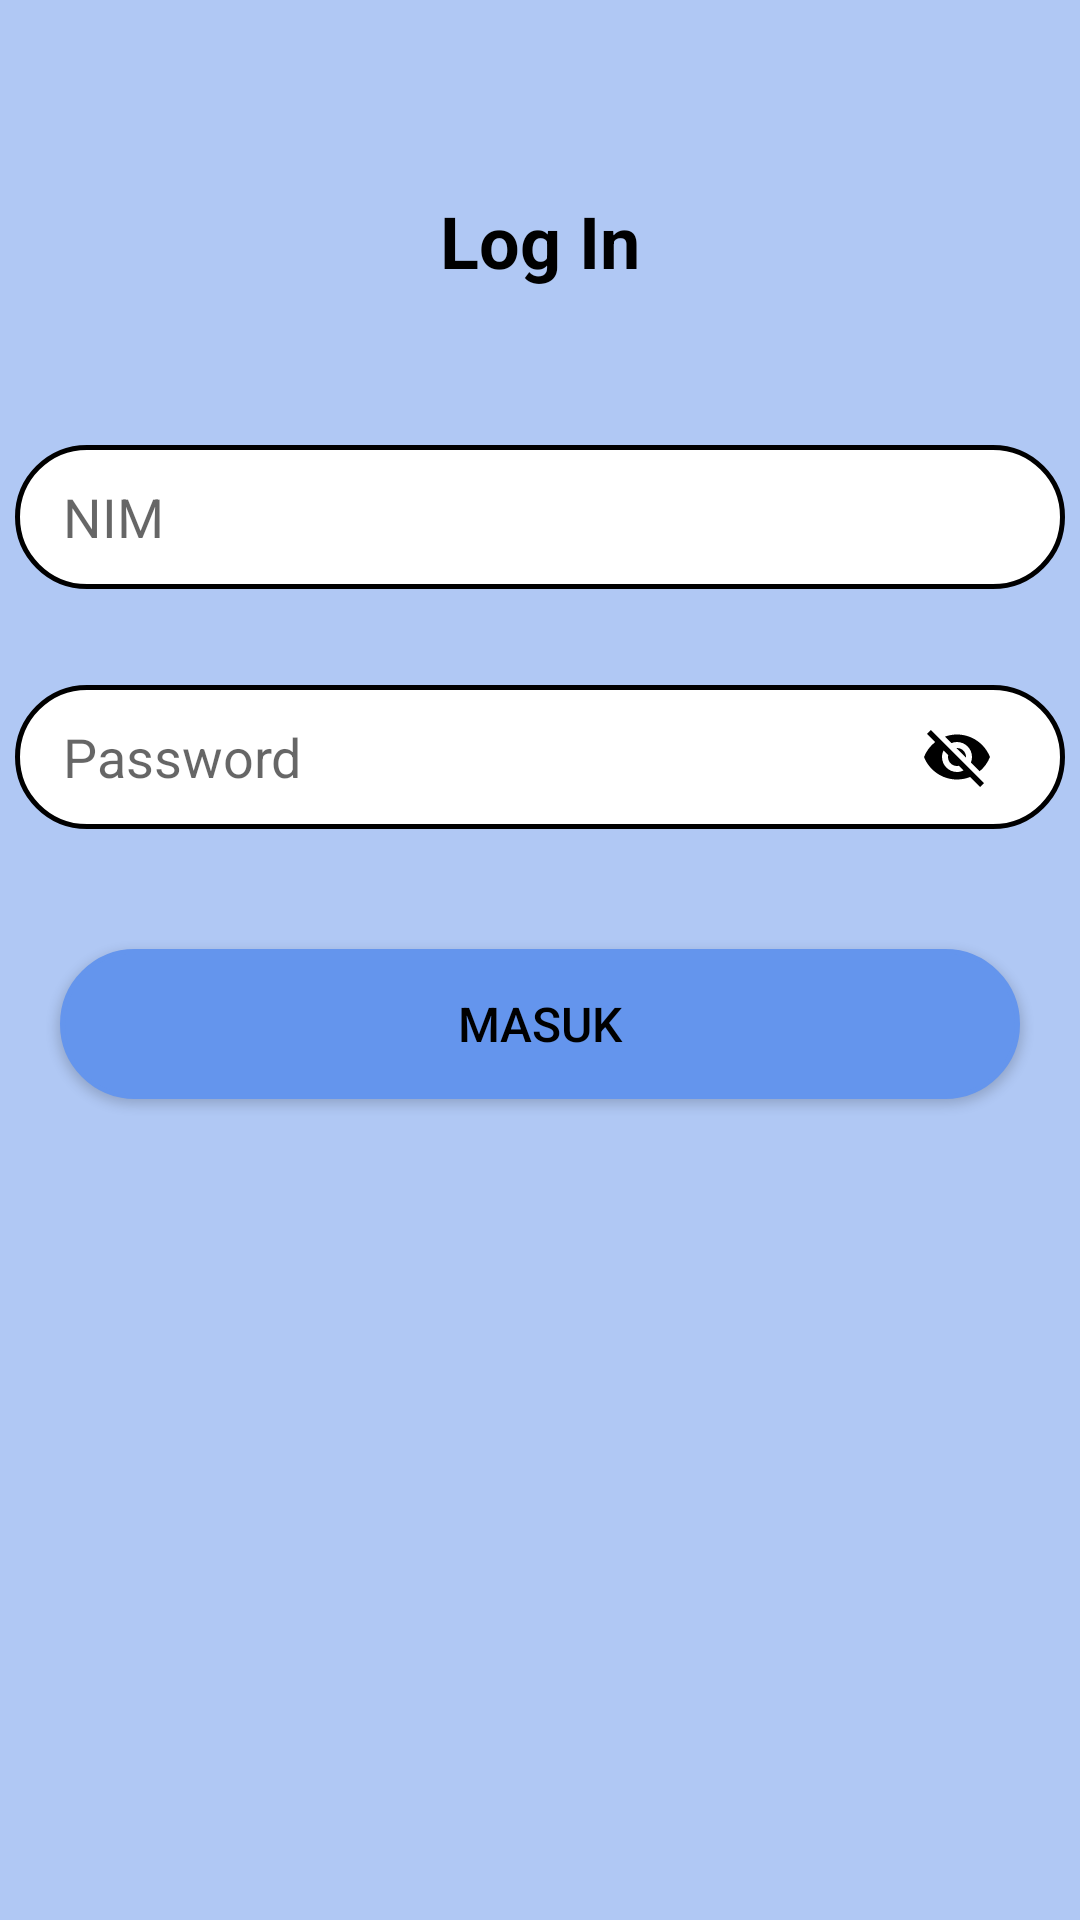

Icon click points for this 1080px x 1920px phone screenshot, format (x=x, y=y):
visibility of: (x=957, y=758)
